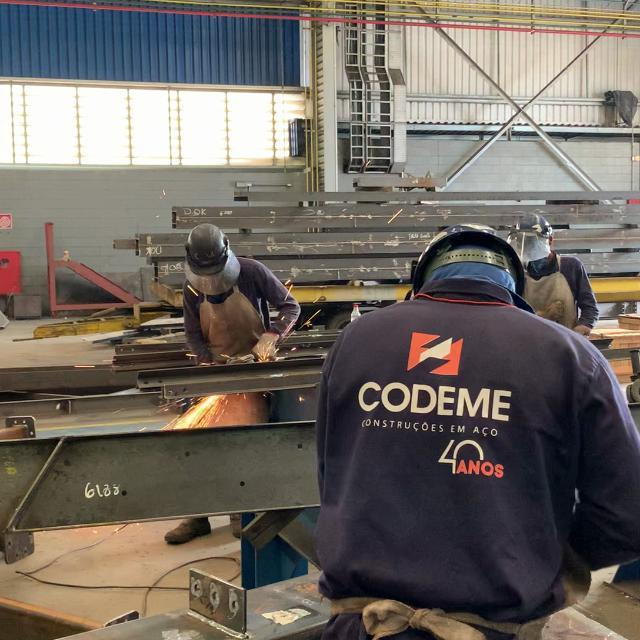face-shield: (181, 248, 242, 297), (507, 232, 554, 260)
helmet: (410, 222, 531, 301), (187, 222, 231, 273), (184, 241, 232, 278)
person: (317, 224, 633, 624), (183, 222, 305, 360), (504, 215, 600, 340)
